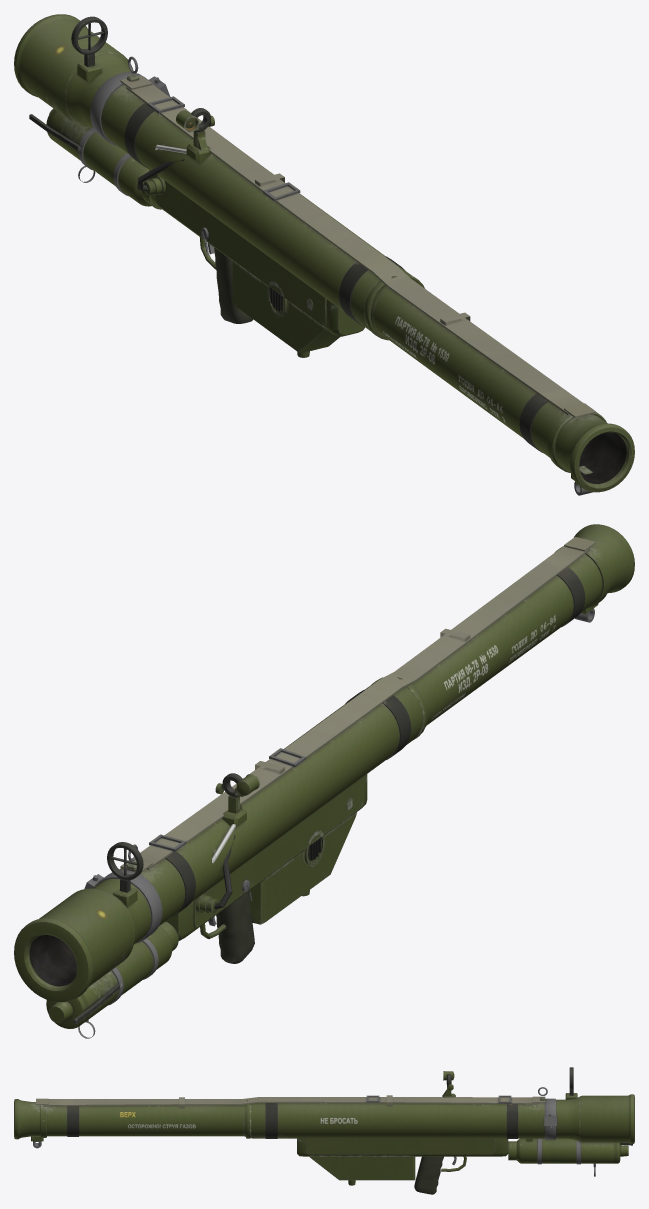
File: mp_strela2.glb
3 views of the same model, one above another, from view 1: azimuth 30°, elevation 25°; view 2: azimuth 150°, elevation 25°; view 3: azimuth 270°, elevation 25° (orthographic). The views are drawn at different scales.
Parts seen in each view (by area): view 1: body|STR_L; view 2: body|STR_L; view 3: body|STR_L.
Boxes of the visible parts, x1,y1,x2,y2 form: body|STR_L: (14,14,634,495); body|STR_L: (14,524,634,1038); body|STR_L: (14,1067,634,1194).
Size of the model in its own units: 0.1324 by 0.3125 by 1.47.
1 material, 1 textured.
